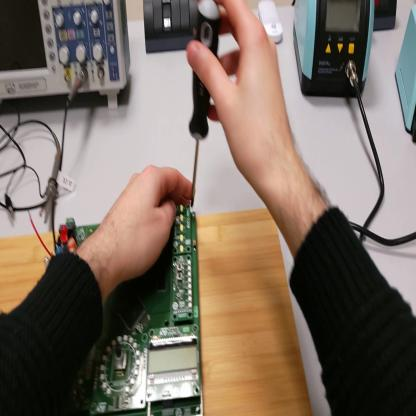hand: (185, 2, 293, 189), (102, 163, 196, 287)
low voltage board: (30, 197, 201, 414)
oscilloscope: (2, 2, 133, 115)
oscilloscope probe tip: (44, 131, 62, 227)
screwdriver-: (192, 4, 225, 211)
socket: (374, 2, 398, 34)
welder base: (394, 3, 416, 142)
welder station: (292, 2, 375, 102)
working area: (1, 190, 313, 415)
